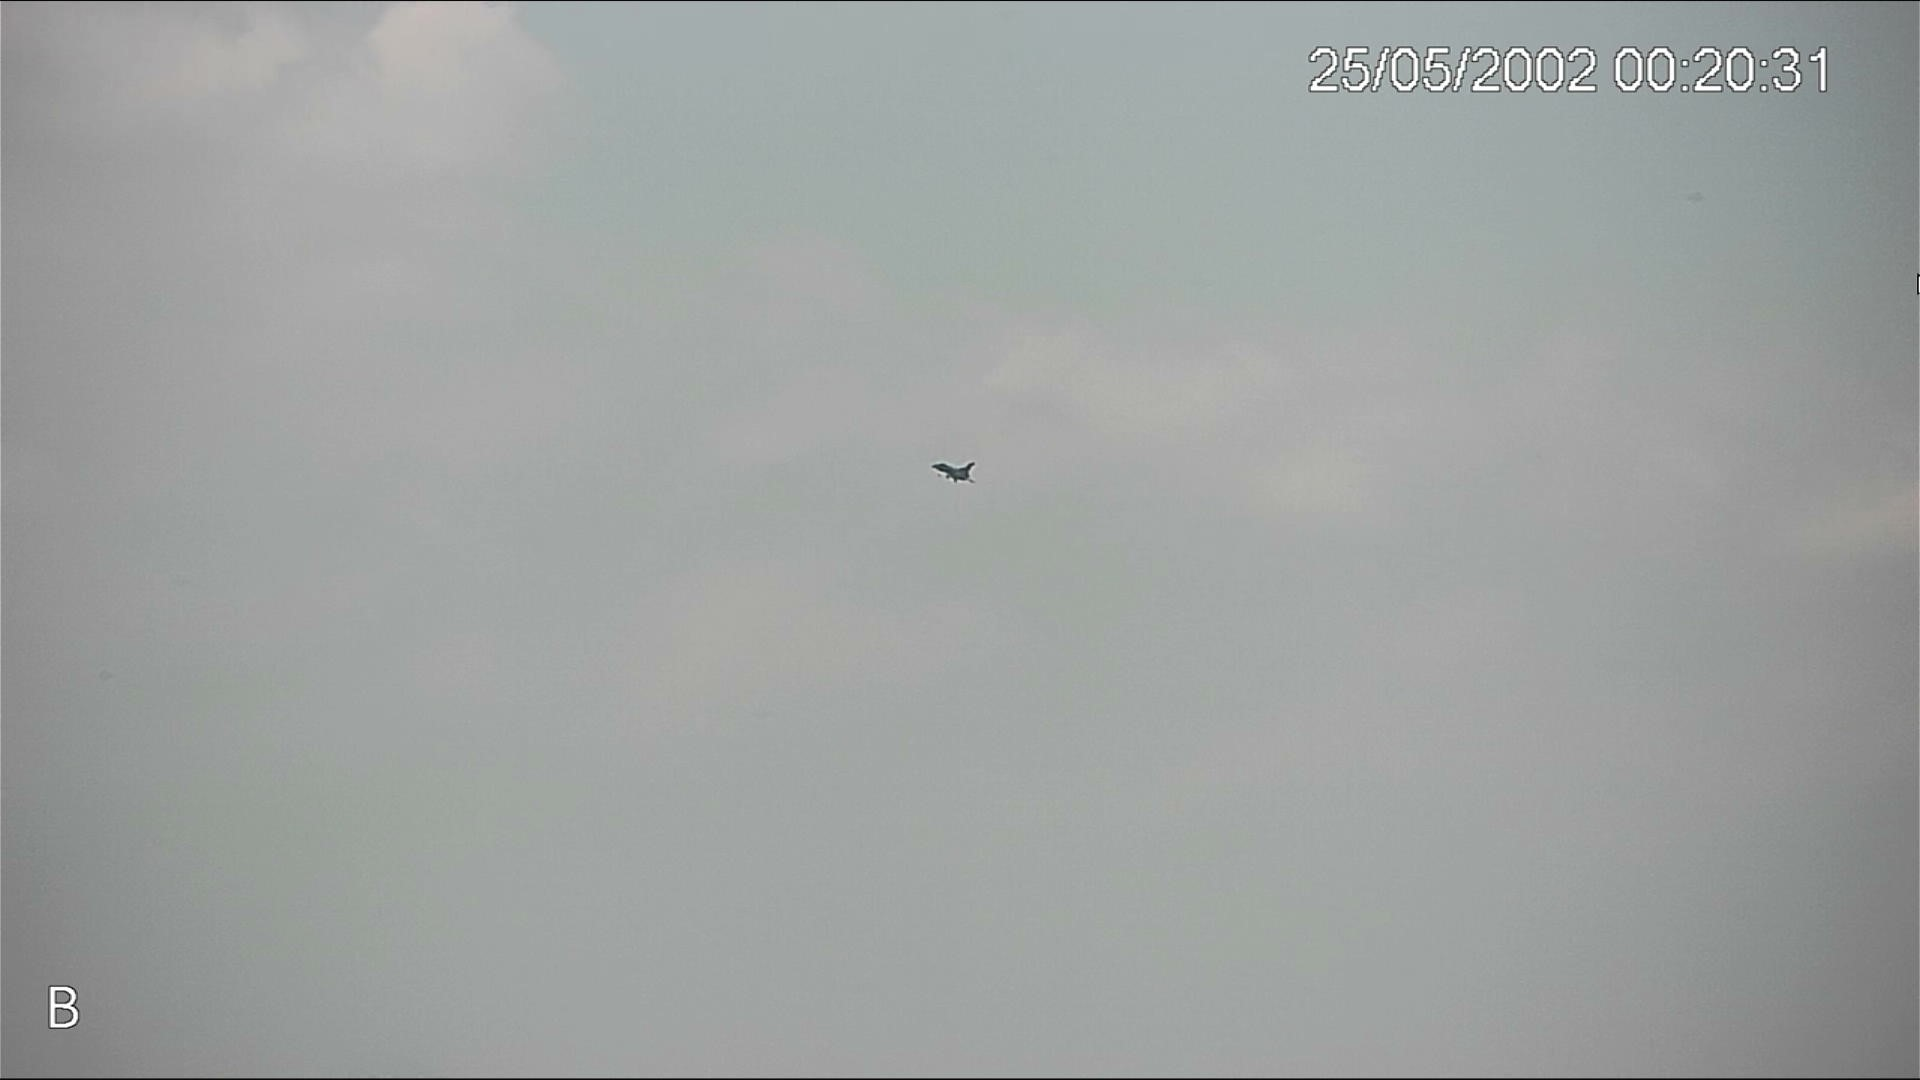SU_30: (928, 458, 980, 489)
